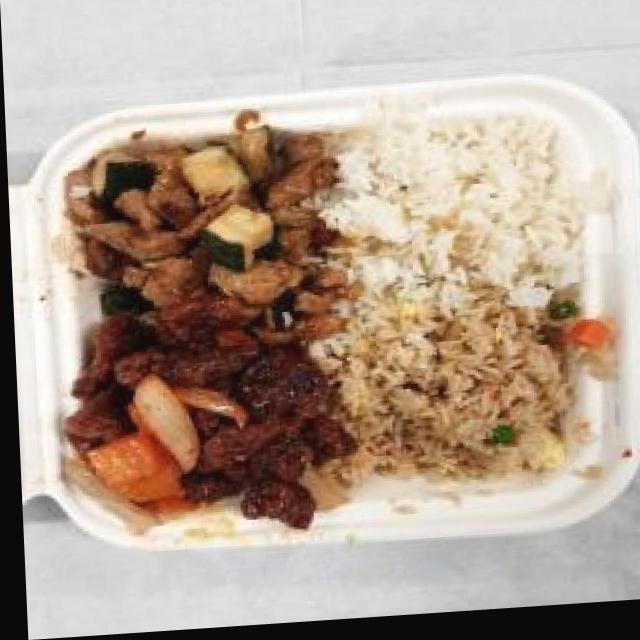Beijing Beef: (52, 315, 357, 541)
Fried Rice: (337, 300, 588, 501)
Kung Pao Chicken: (53, 126, 332, 323)
White Steamed Rice: (325, 104, 599, 311)
